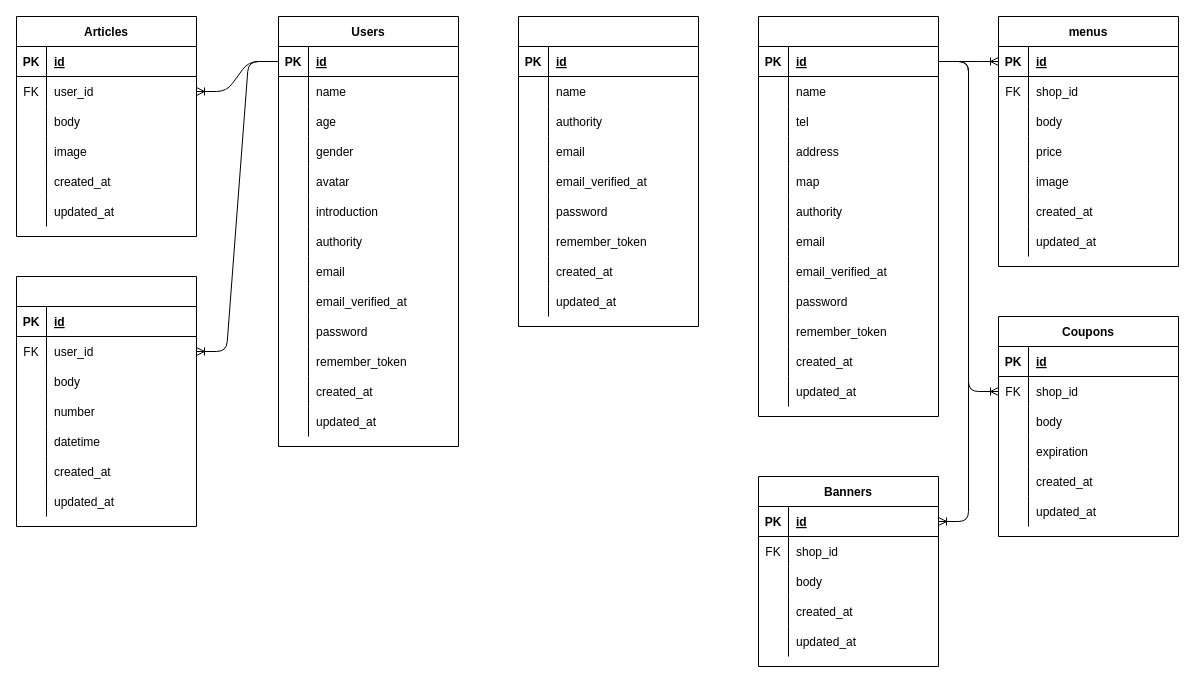
This 1195x683 diagram has some shape labels left out. The shapes that lost their labels are listed below. From the top down, each one's box as (x1, y1, x2, y2) in pixels, then its label:
(518, 16, 698, 326): Administrator
(758, 16, 938, 416): Shops
(16, 276, 196, 526): Reservations
